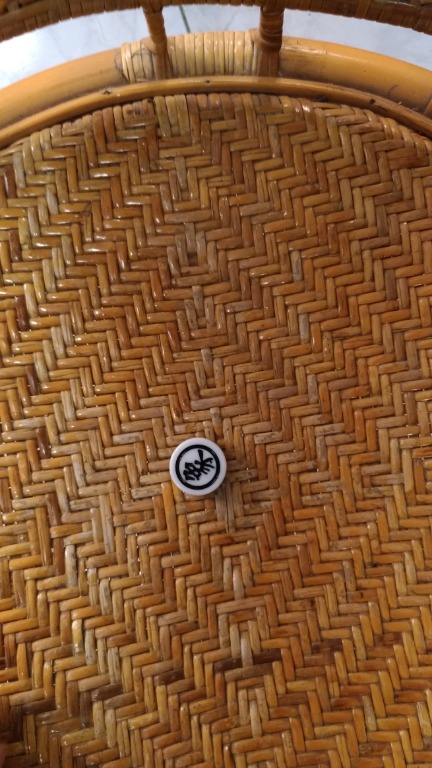b-elephant: (156, 441, 241, 511)
